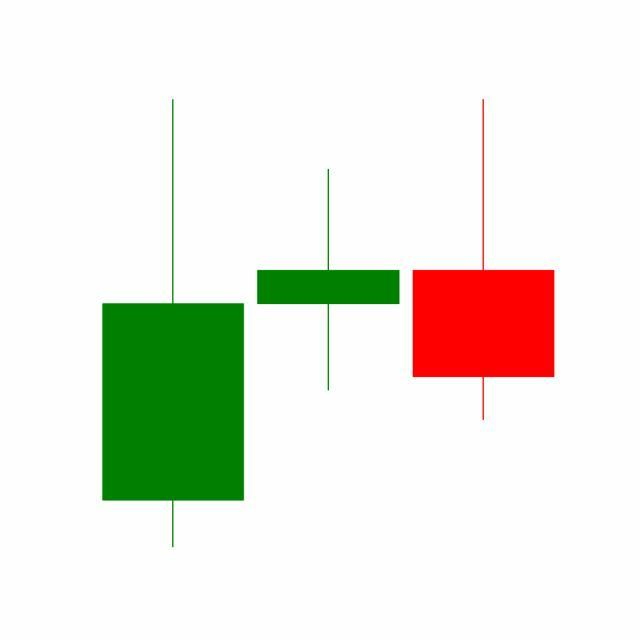Spinning Top: (250, 167, 407, 394)
